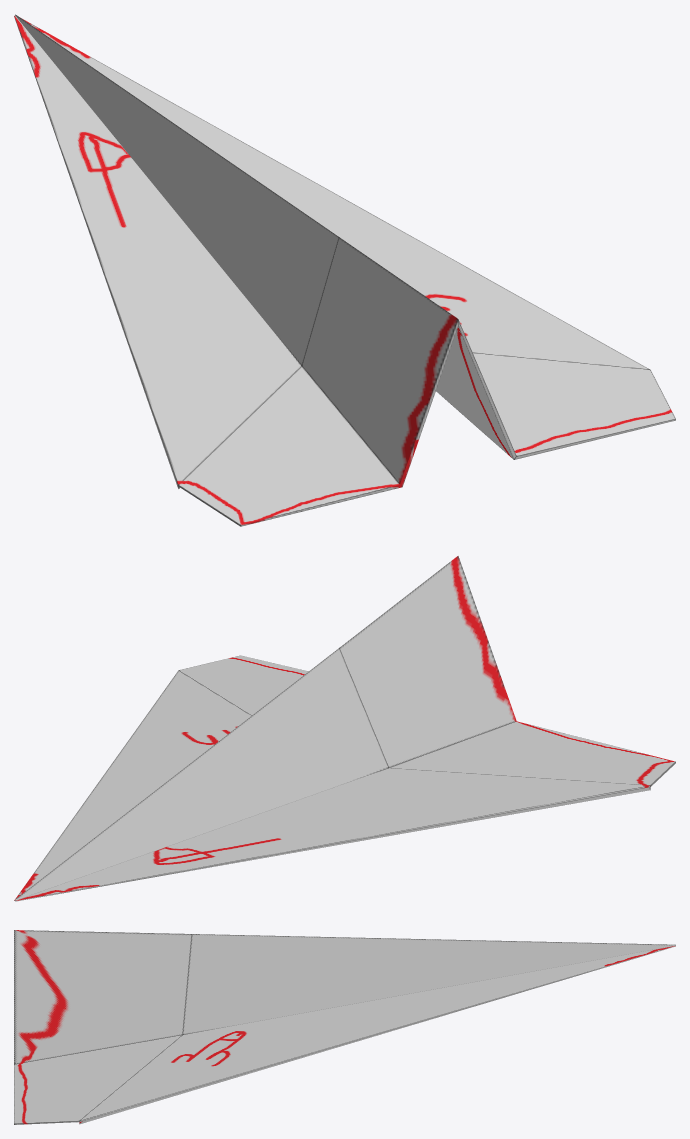
Rendered from planeFinal.obj.
The picture shows the model from 3 angles, top to bottom: view 1: azimuth 30°, elevation 25°; view 2: azimuth 150°, elevation 25°; view 3: azimuth 270°, elevation 25°; orthographic projection. The views are drawn at different scales.
Parts seen in each view (by area): view 1: Cube.002_Cube; view 2: Cube.002_Cube; view 3: Cube.002_Cube.
Part boxes in pixels (<box>): Cube.002_Cube: <box>14,14,675,526</box>; Cube.002_Cube: <box>14,556,675,901</box>; Cube.002_Cube: <box>14,930,675,1124</box>.
Size of the model in its own units: 7.2 by 2.25 by 11.7.
